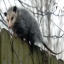opossum: (4, 6, 47, 46)
